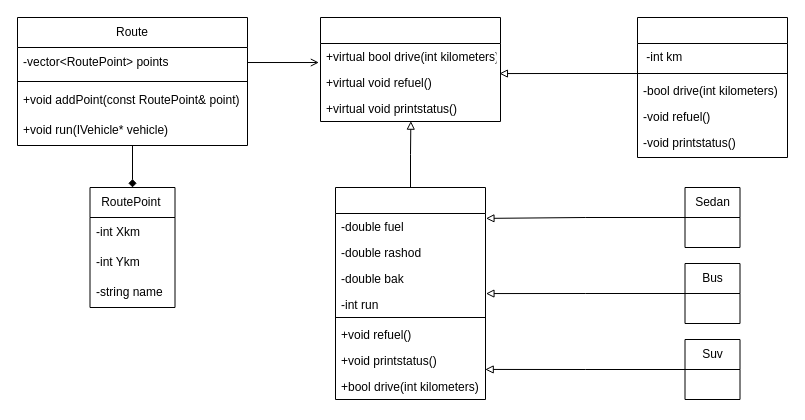
Image size: 805x420. Some labels were removed from this diagram. Each missing label, with the box of its shape:
AbstractCar: (334, 186, 486, 400)
Bicycle: (636, 16, 788, 158)
IVehicle: (320, 16, 500, 122)
